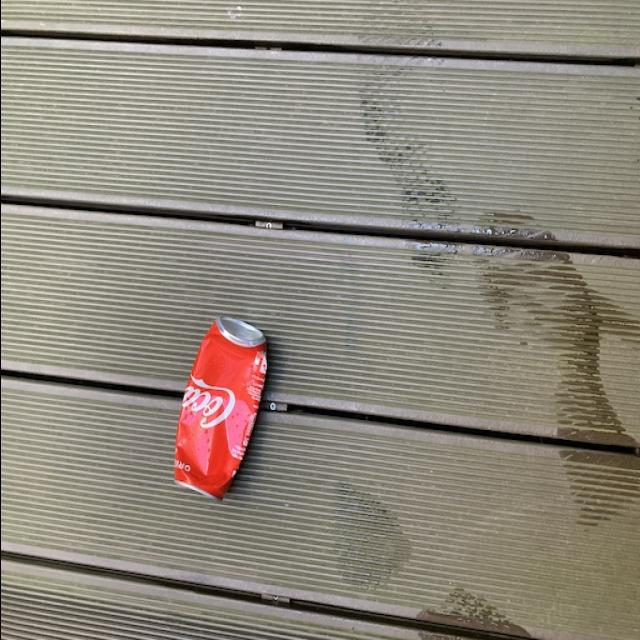Aluminum Can: (172, 310, 266, 519)
